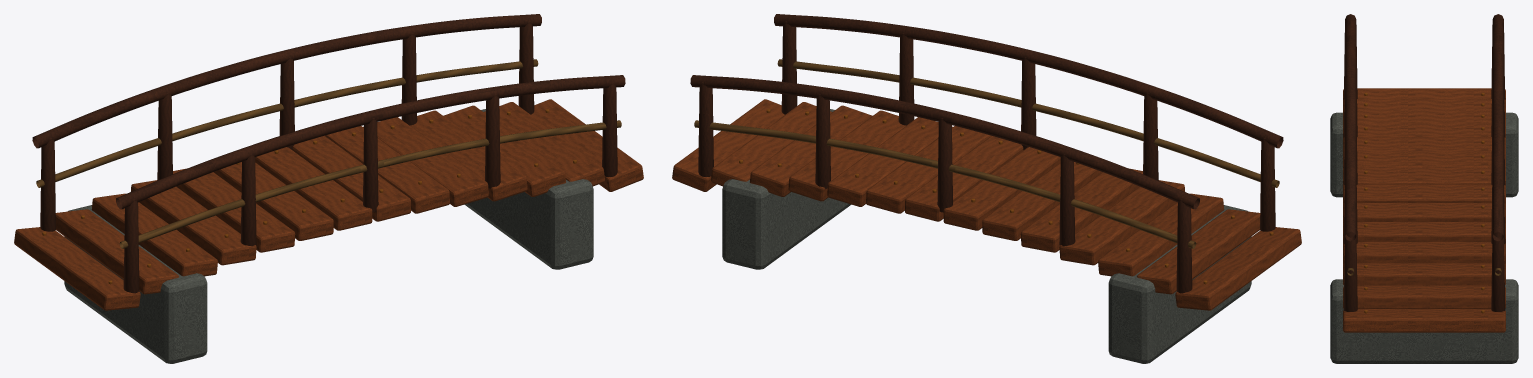
The model's file is prop_bridge.glb.
The picture shows the model from 3 angles, left to right: view 1: azimuth 30°, elevation 25°; view 2: azimuth 150°, elevation 25°; view 3: azimuth 270°, elevation 25°; orthographic projection. The views are drawn at different scales.
Parts seen in each view (by area): view 1: StonePier.001, Handrail.001, Handrail, StonePier, DeckPlank_00, LowerRail.001, LowerRail, DeckPlank_01, DeckPlank_03, DeckPlank_06, DeckPlank_09, DeckPlank_02 (+18 smaller); view 2: StonePier.001, Handrail, Handrail.001, StonePier, DeckPlank_00, LowerRail, LowerRail.001, DeckPlank_01, DeckPlank_03, DeckPlank_06, DeckPlank_09, DeckPlank_02 (+18 smaller); view 3: StonePier.001, DeckPlank_13, DeckPlank_12, DeckPlank_11, DeckPlank_10, DeckPlank_09, Handrail, Handrail.001, DeckPlank_07, DeckPlank_08, DeckPlank_06, DeckPlank_05 (+14 smaller).
Part boxes in pixels (x1=…): StonePier.001: x1=464, y1=109, x2=593, y2=269; Handrail.001: x1=32, y1=14, x2=541, y2=148; Handrail: x1=116, y1=75, x2=625, y2=209; StonePier: x1=64, y1=205, x2=207, y2=363; DeckPlank_00: x1=14, y1=227, x2=140, y2=310; LowerRail.001: x1=36, y1=59, x2=538, y2=187; LowerRail: x1=119, y1=120, x2=621, y2=248; DeckPlank_01: x1=55, y1=209, x2=178, y2=294; DeckPlank_03: x1=131, y1=180, x2=256, y2=265; DeckPlank_06: x1=255, y1=147, x2=372, y2=230; DeckPlank_09: x1=363, y1=117, x2=488, y2=206; DeckPlank_02: x1=91, y1=193, x2=217, y2=276; StonePier.001: x1=722, y1=109, x2=851, y2=269; Handrail: x1=774, y1=14, x2=1283, y2=148; Handrail.001: x1=690, y1=75, x2=1199, y2=209; StonePier: x1=1108, y1=205, x2=1251, y2=363; DeckPlank_00: x1=1175, y1=227, x2=1301, y2=310; LowerRail: x1=777, y1=59, x2=1279, y2=187; LowerRail.001: x1=694, y1=120, x2=1196, y2=248; DeckPlank_01: x1=1137, y1=209, x2=1260, y2=294; DeckPlank_03: x1=1059, y1=180, x2=1184, y2=265; DeckPlank_06: x1=943, y1=147, x2=1060, y2=230; DeckPlank_09: x1=827, y1=117, x2=952, y2=206; DeckPlank_02: x1=1098, y1=193, x2=1224, y2=276; StonePier.001: x1=1330, y1=279, x2=1518, y2=363; DeckPlank_13: x1=1343, y1=309, x2=1505, y2=332; DeckPlank_12: x1=1343, y1=285, x2=1505, y2=308; DeckPlank_11: x1=1343, y1=263, x2=1505, y2=285; DeckPlank_10: x1=1343, y1=242, x2=1505, y2=264; DeckPlank_09: x1=1343, y1=222, x2=1505, y2=243; Handrail: x1=1345, y1=14, x2=1356, y2=241; Handrail.001: x1=1492, y1=14, x2=1503, y2=241; DeckPlank_07: x1=1343, y1=184, x2=1505, y2=204; DeckPlank_08: x1=1343, y1=203, x2=1505, y2=223; DeckPlank_06: x1=1343, y1=167, x2=1505, y2=186; DeckPlank_05: x1=1343, y1=152, x2=1505, y2=169.
Size of the model in its own units: 4.33 by 1.5 by 1.48.
Materials: 5 (5 with a texture image).
